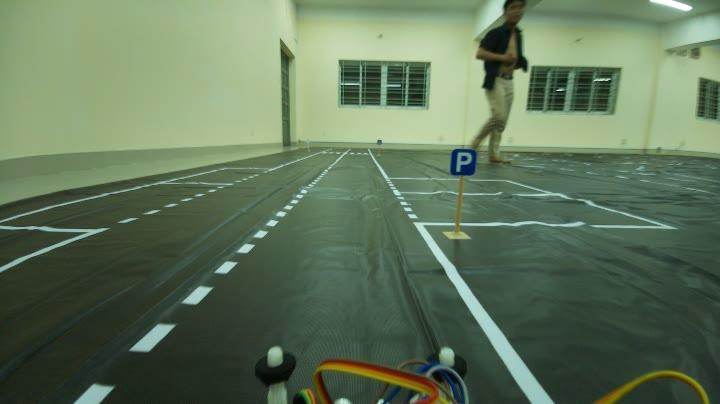parking: (444, 144, 480, 180)
